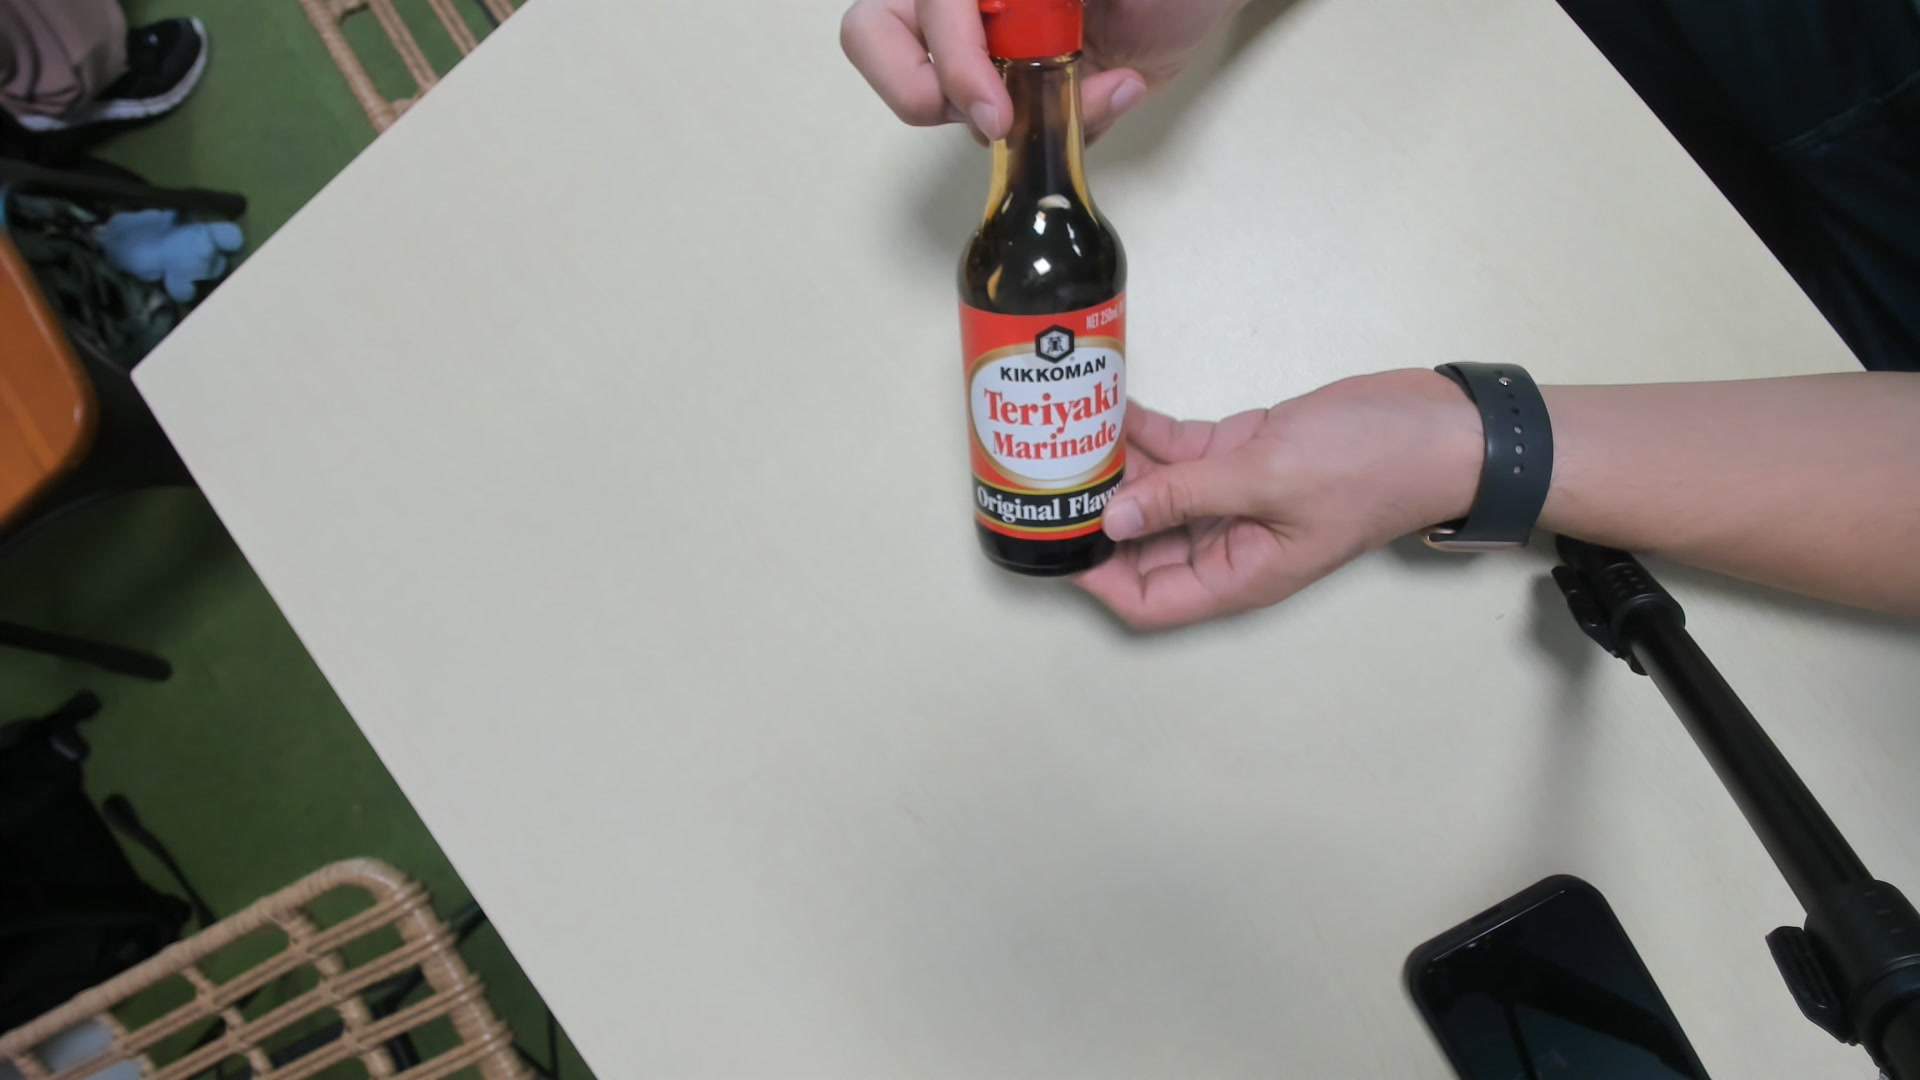OtherSauceDressing_200-299g_NonHalal_NonHealthy: (957, 1, 1127, 578)
